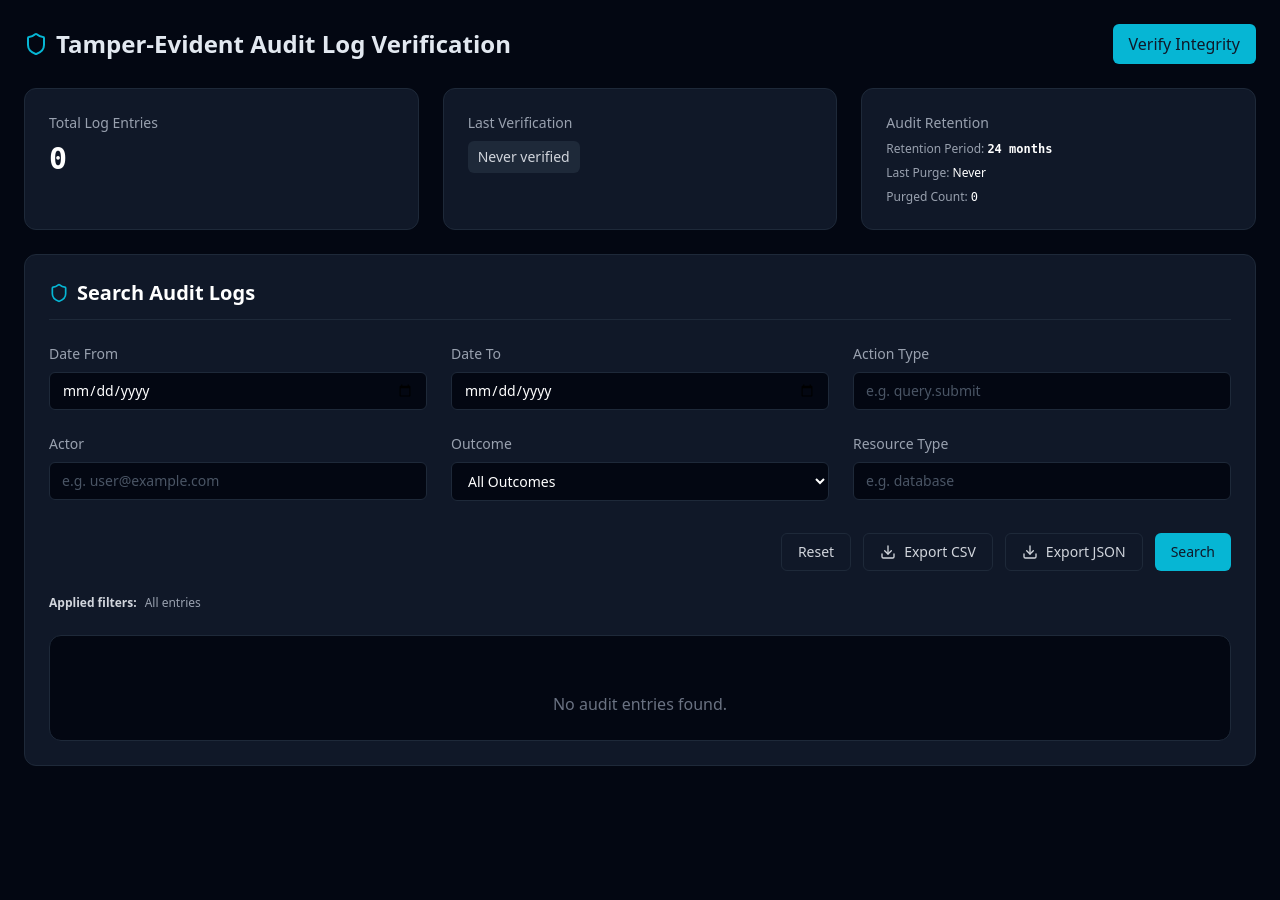
Scenario: AdminAuditPage export cancellation (CHUNK-21 / IS-GAP-043) › revokes and removes download resources even when the anchor click fails
Expected: the text "Total Log Entries" is shown, [49,113,158,132]
Click the button "Export CSV".
click(928, 552)  # box [863,533,993,571]
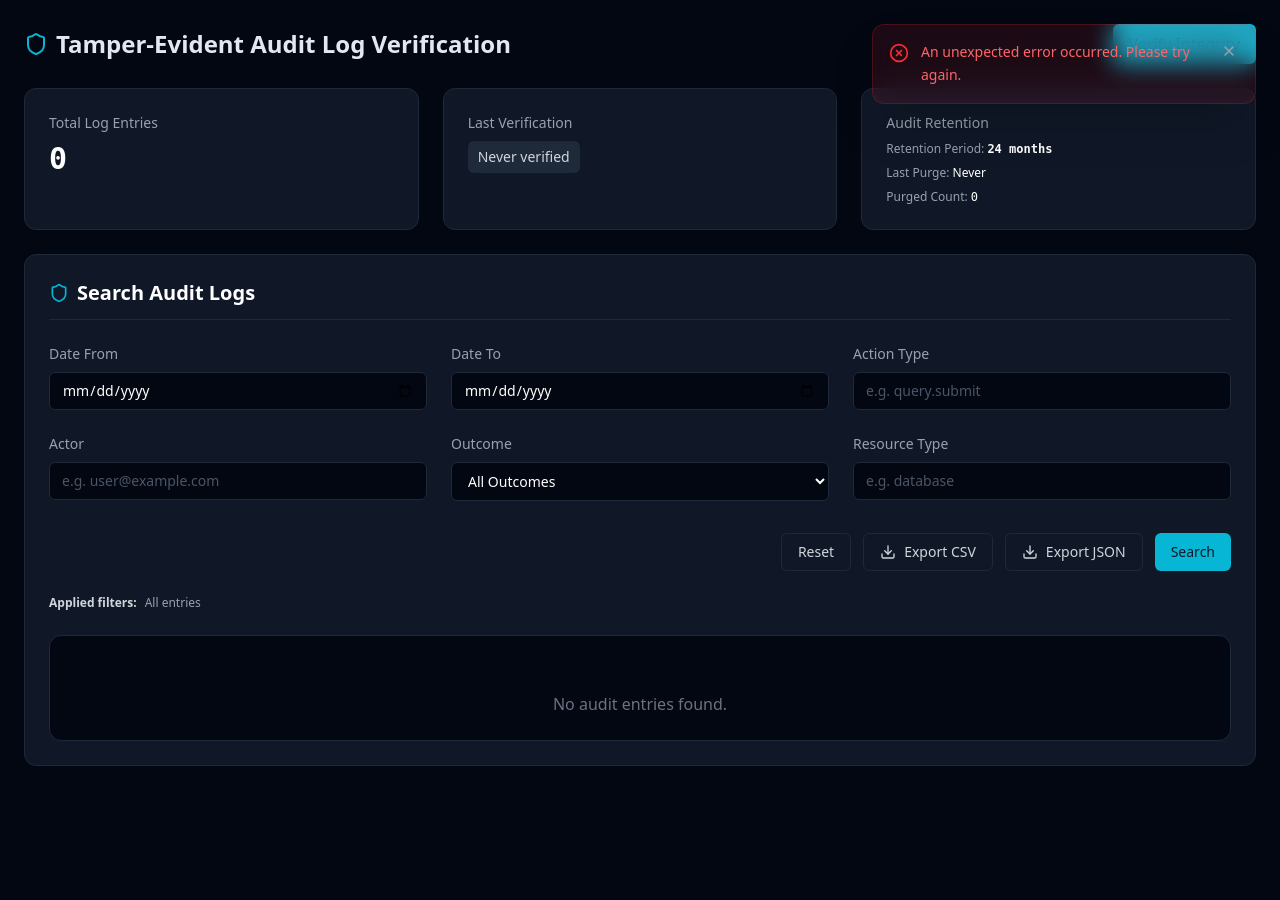
Expected: the text "An unexpected error occurred. Please try again." is shown, [921,41,1207,86]
